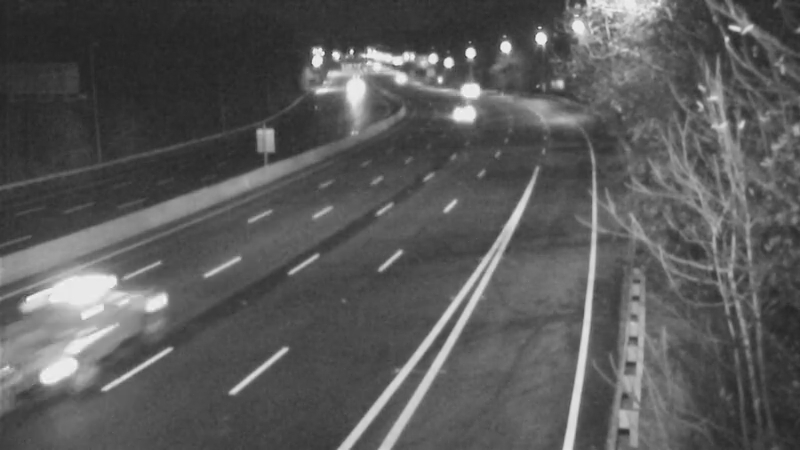vehicle: (8, 273, 118, 383), (374, 52, 424, 102), (441, 65, 491, 115), (437, 91, 487, 141), (329, 65, 379, 115)
